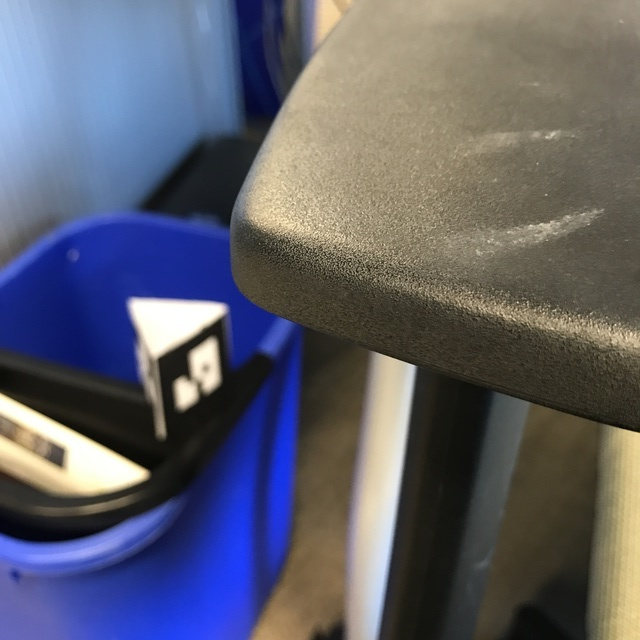ARTag: (125, 296, 235, 442)
